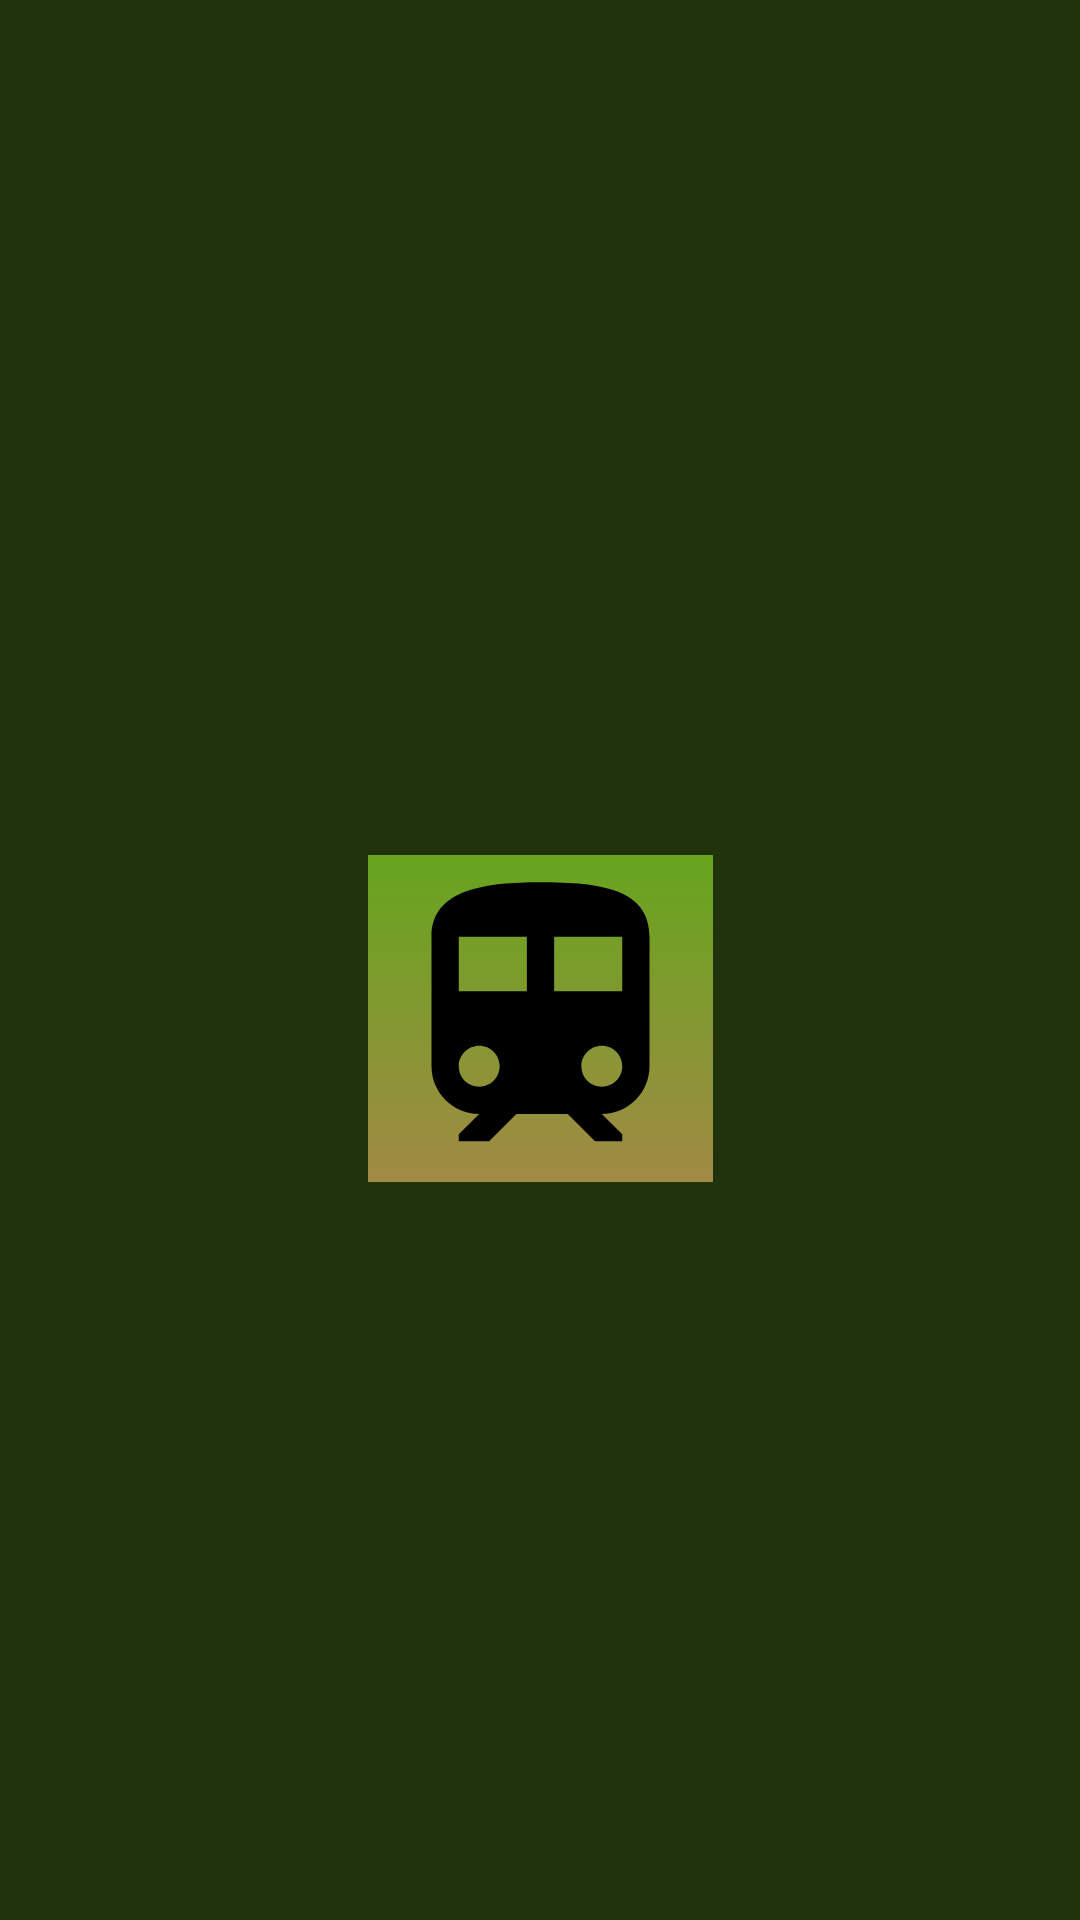

Locate icon controls on the screen. Image size 1080 x 1920, boxes as bbox(x1, y1, x2, y2).
train: bbox(368, 855, 713, 1182)
